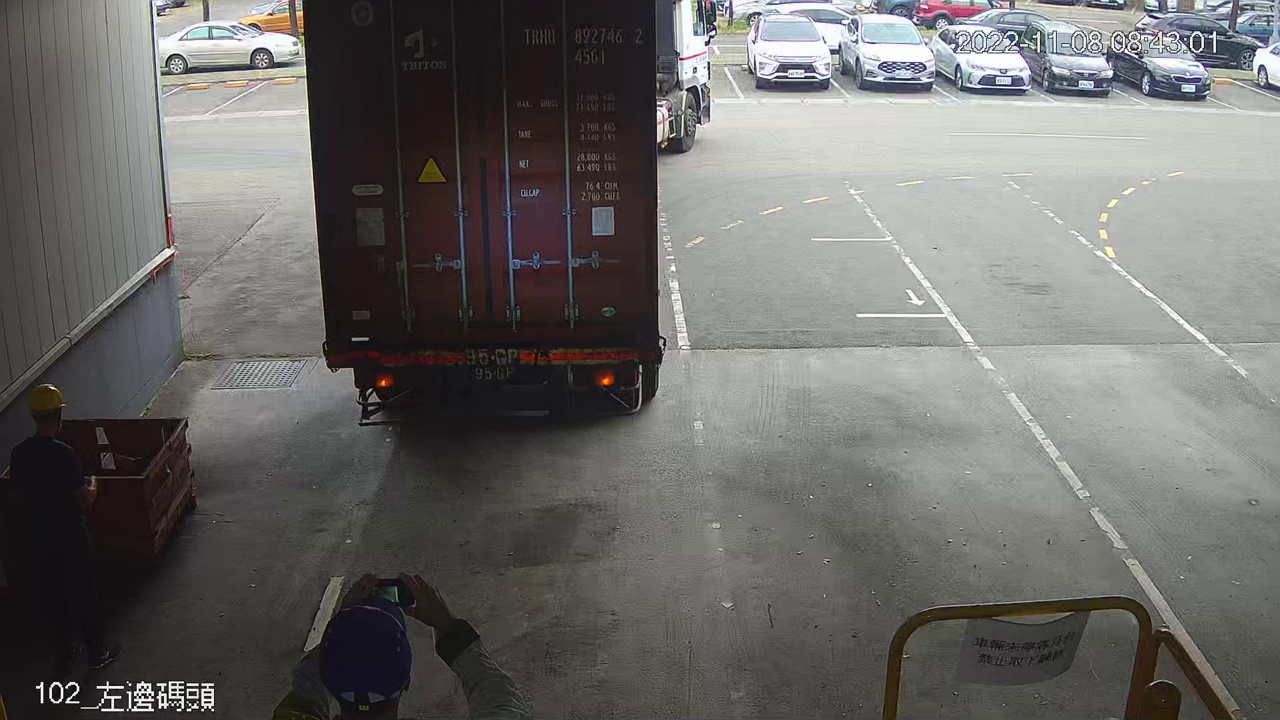container: (517, 18, 648, 70)
